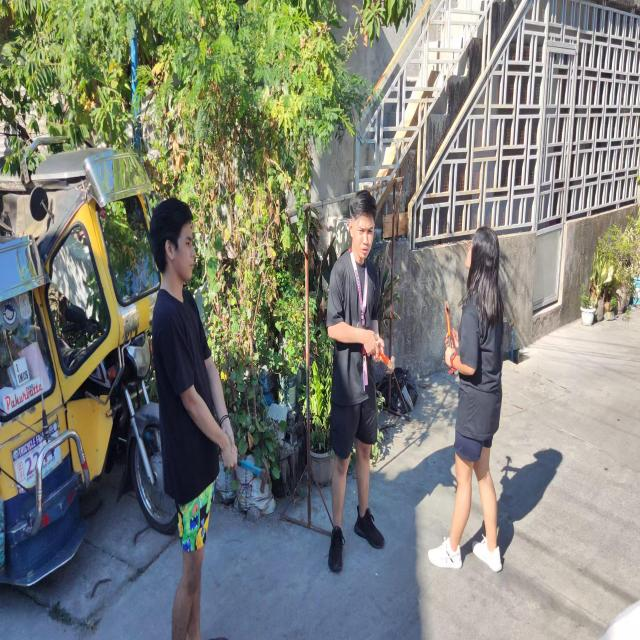hammer: (216, 449, 268, 494), (356, 321, 395, 374), (444, 300, 454, 376)
